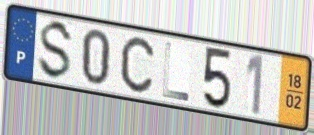0: (80, 27, 114, 87)
1: (243, 51, 265, 118)
5: (200, 44, 235, 112)
C: (119, 34, 156, 95)
L: (160, 39, 191, 104)
S: (35, 18, 76, 82)
